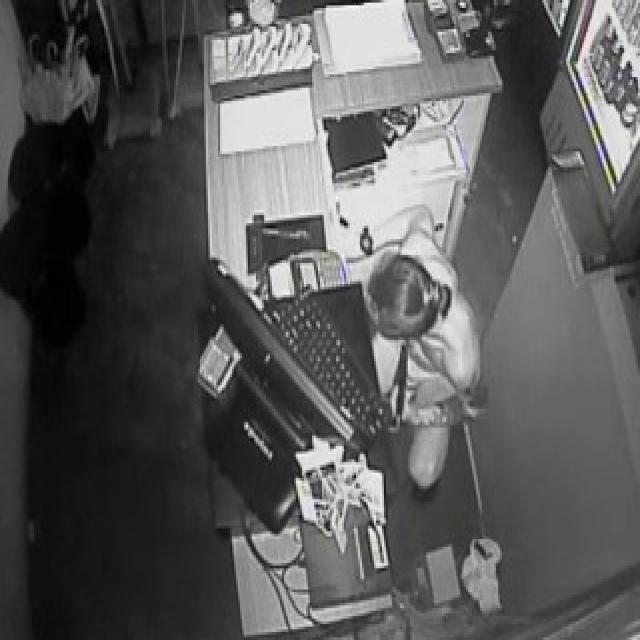thief: (357, 220, 451, 413)
